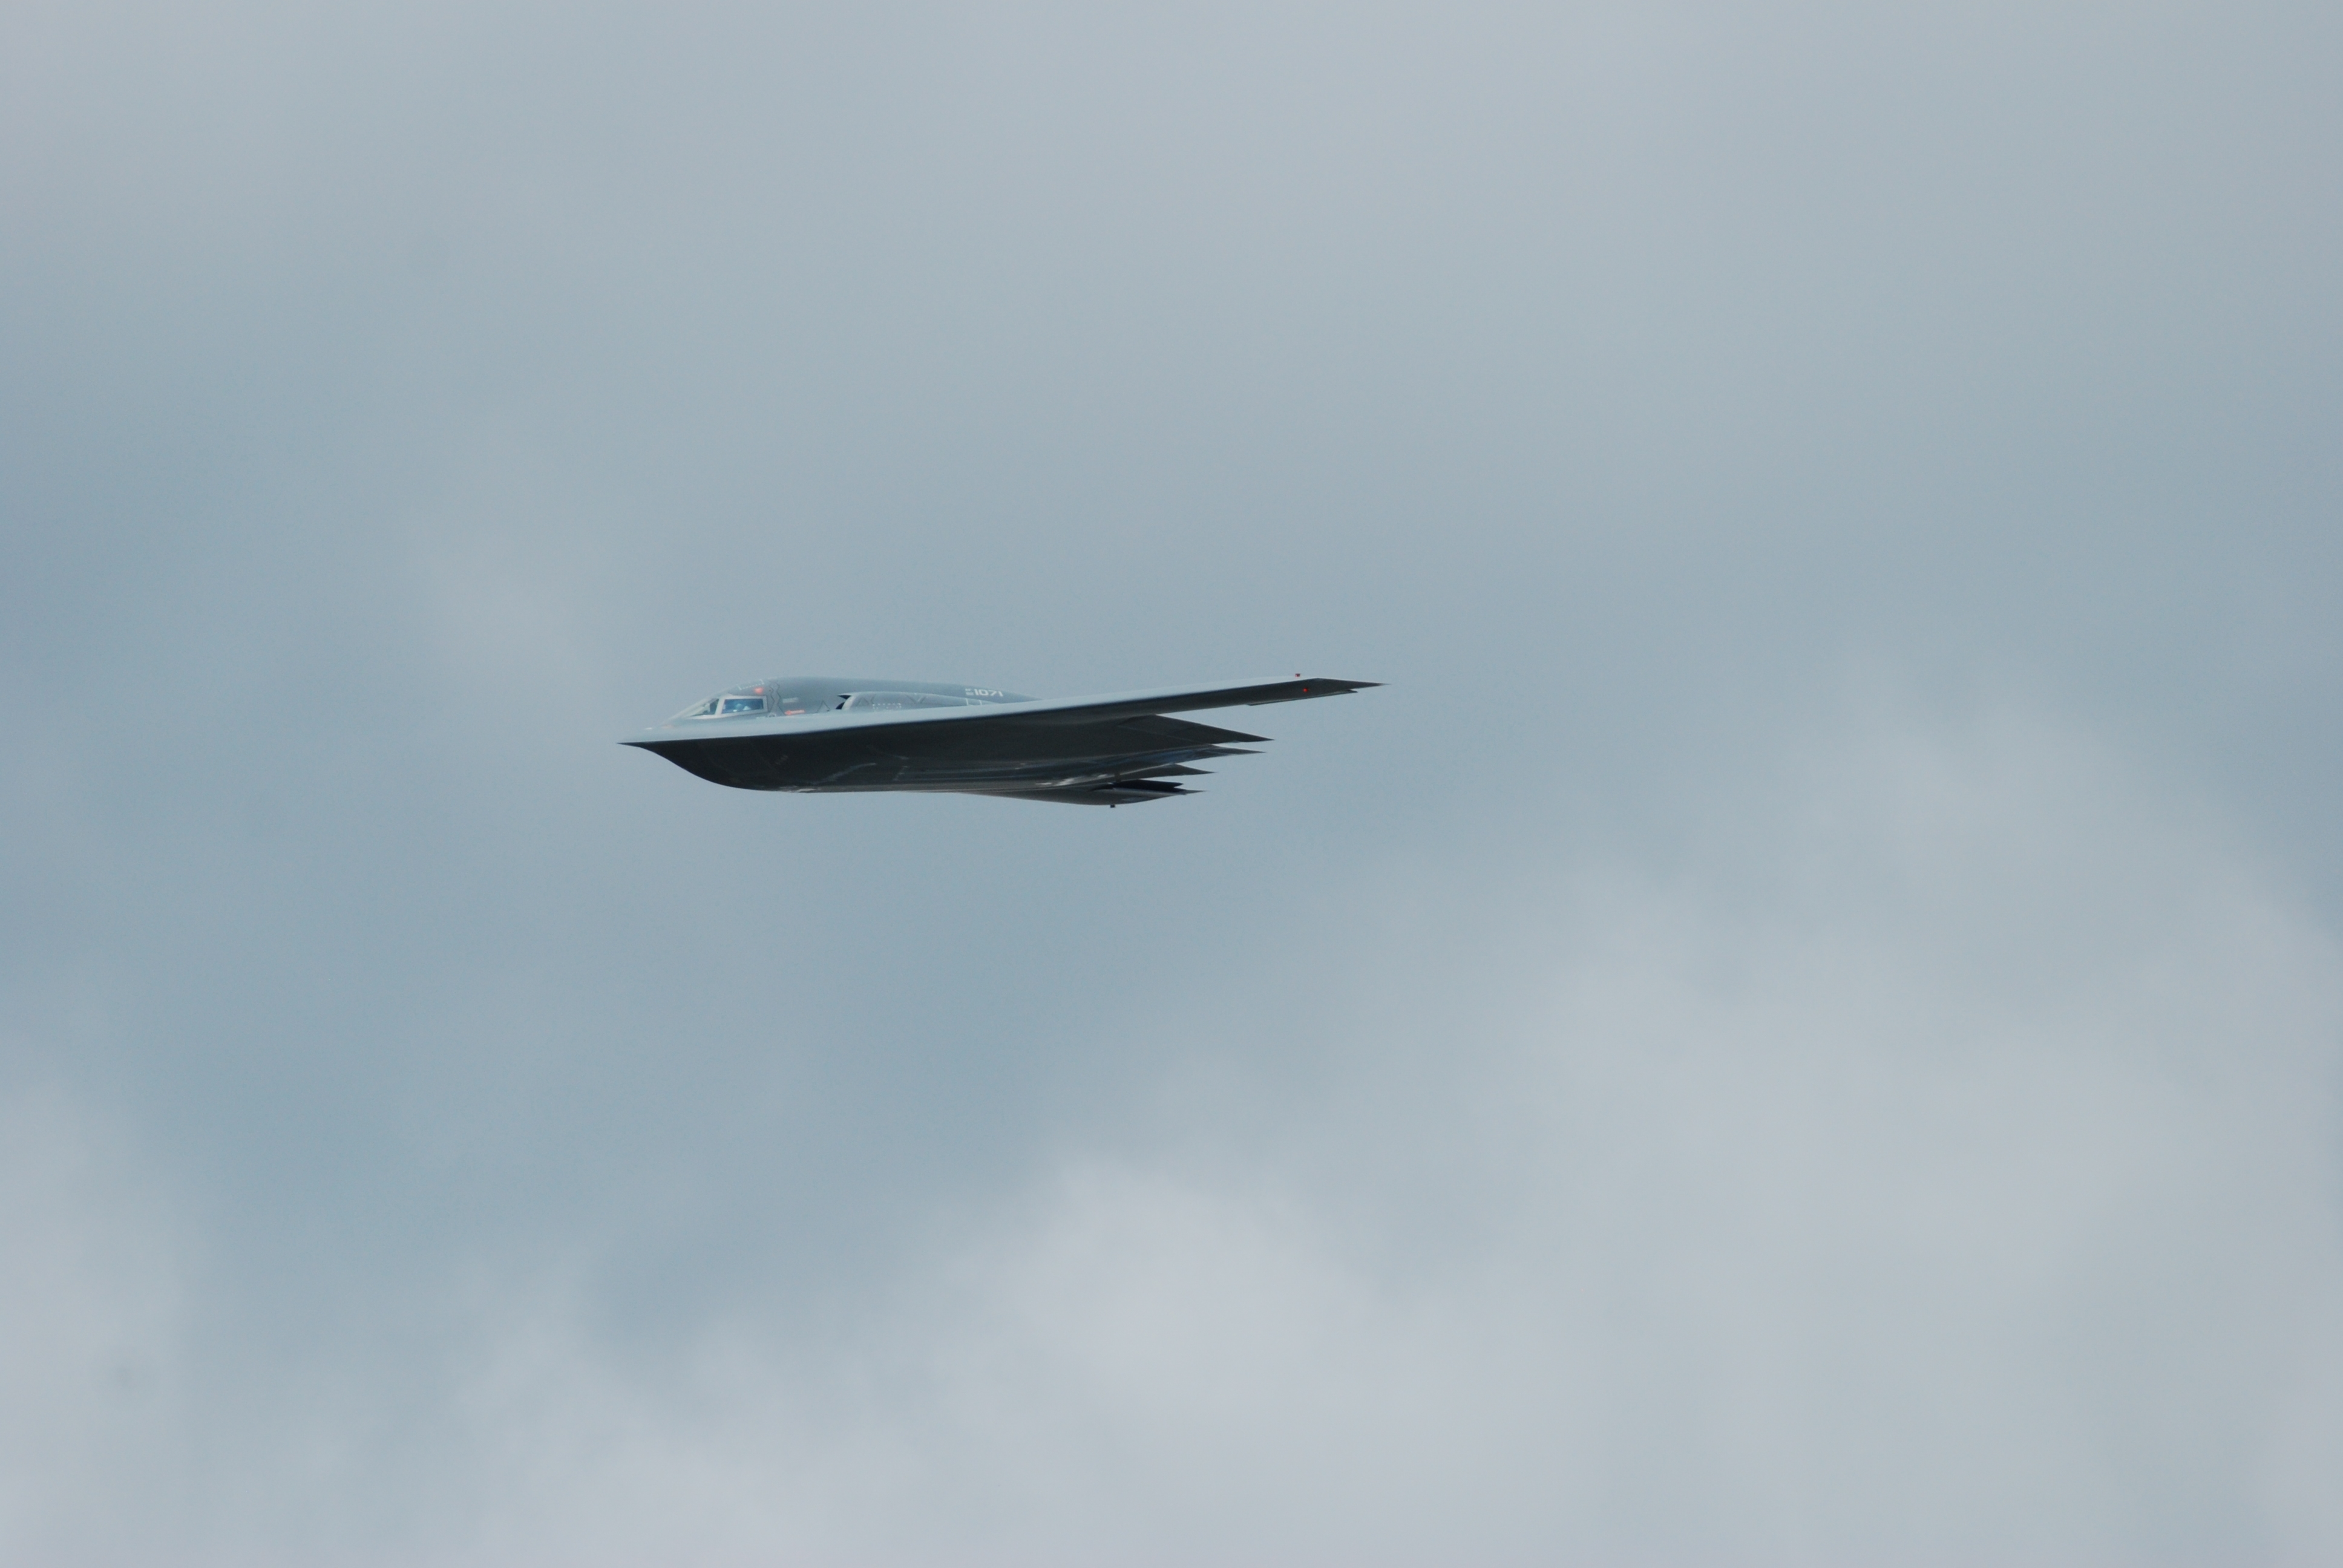B2: (614, 672, 1393, 808)
